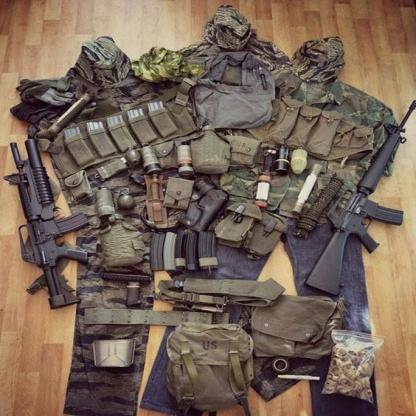Grenade: (95, 185, 115, 220), (288, 144, 308, 176), (177, 141, 193, 175), (144, 145, 161, 176), (116, 186, 136, 212), (276, 142, 288, 177), (126, 146, 142, 167)
Gun: (302, 97, 416, 298), (5, 135, 90, 311)
